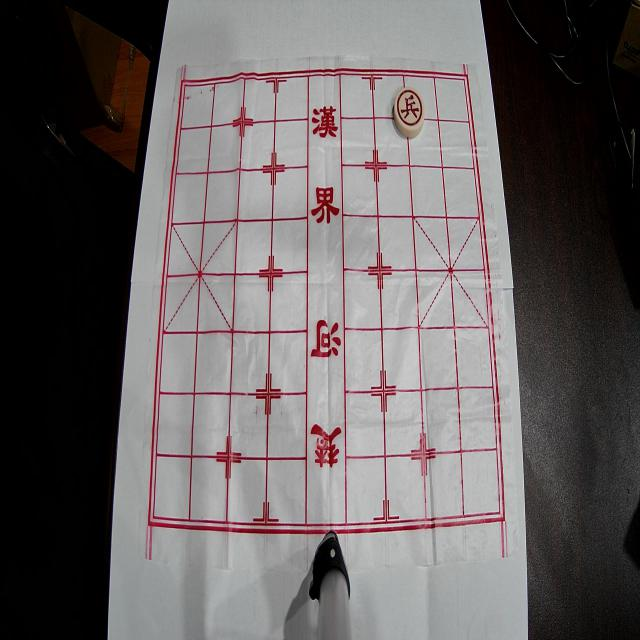red-soldier: (394, 86, 424, 138)
